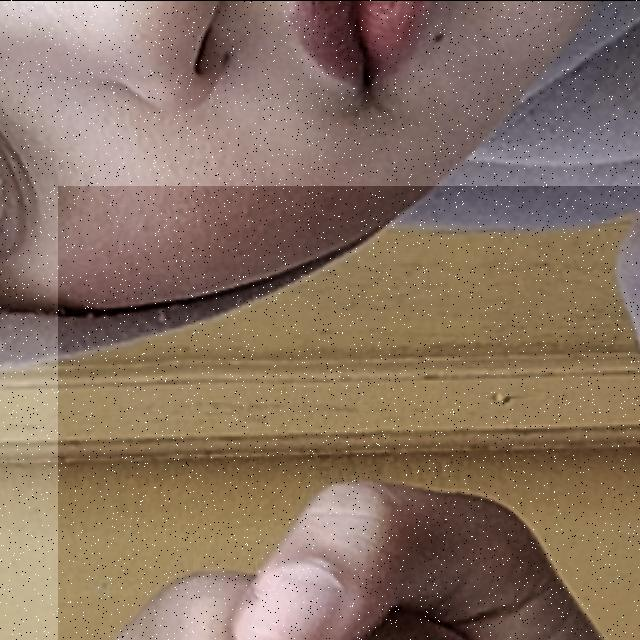baik: (58, 185, 640, 640)
